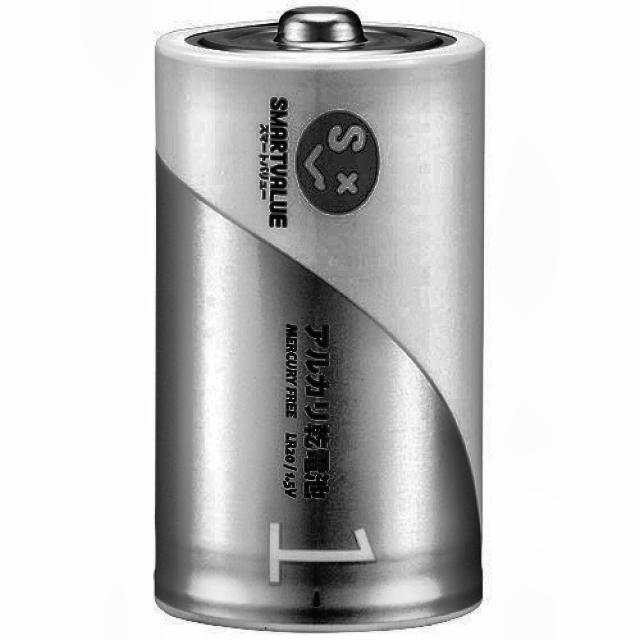drycell: (146, 4, 492, 632)
